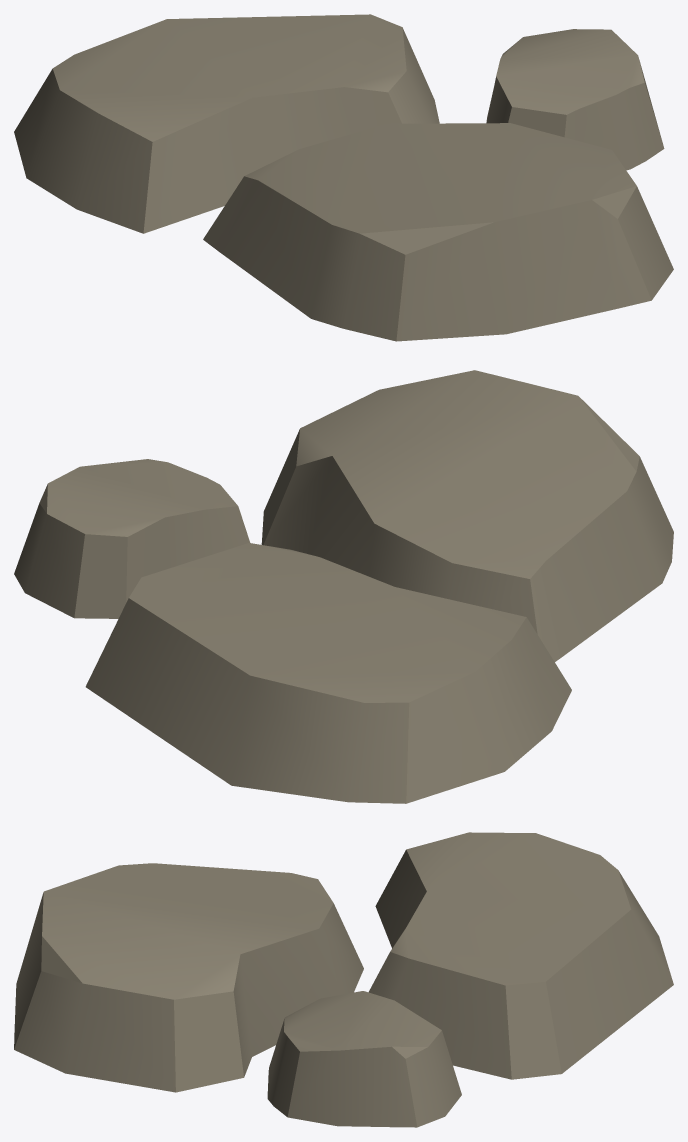
The model's file is Cailloux_sol01.fbx.
3 renders of one model, top to bottom at view 1: azimuth 30°, elevation 25°; view 2: azimuth 150°, elevation 25°; view 3: azimuth 270°, elevation 25°, orthographic. The views are drawn at different scales.
Parts seen in each view (by area): view 1: Cailloux_sol01; view 2: Cailloux_sol01; view 3: Cailloux_sol01.
Part boxes in pixels (x1,y1,x2,y2): Cailloux_sol01: (14, 14, 673, 341); Cailloux_sol01: (14, 370, 673, 803); Cailloux_sol01: (14, 832, 673, 1127).
Size of the model in its own units: 173 by 34.77 by 204.
